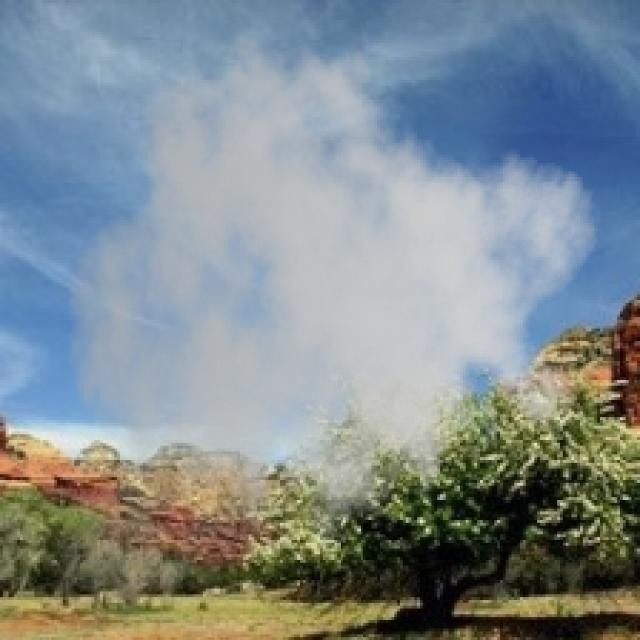smoke: (66, 14, 600, 580)
